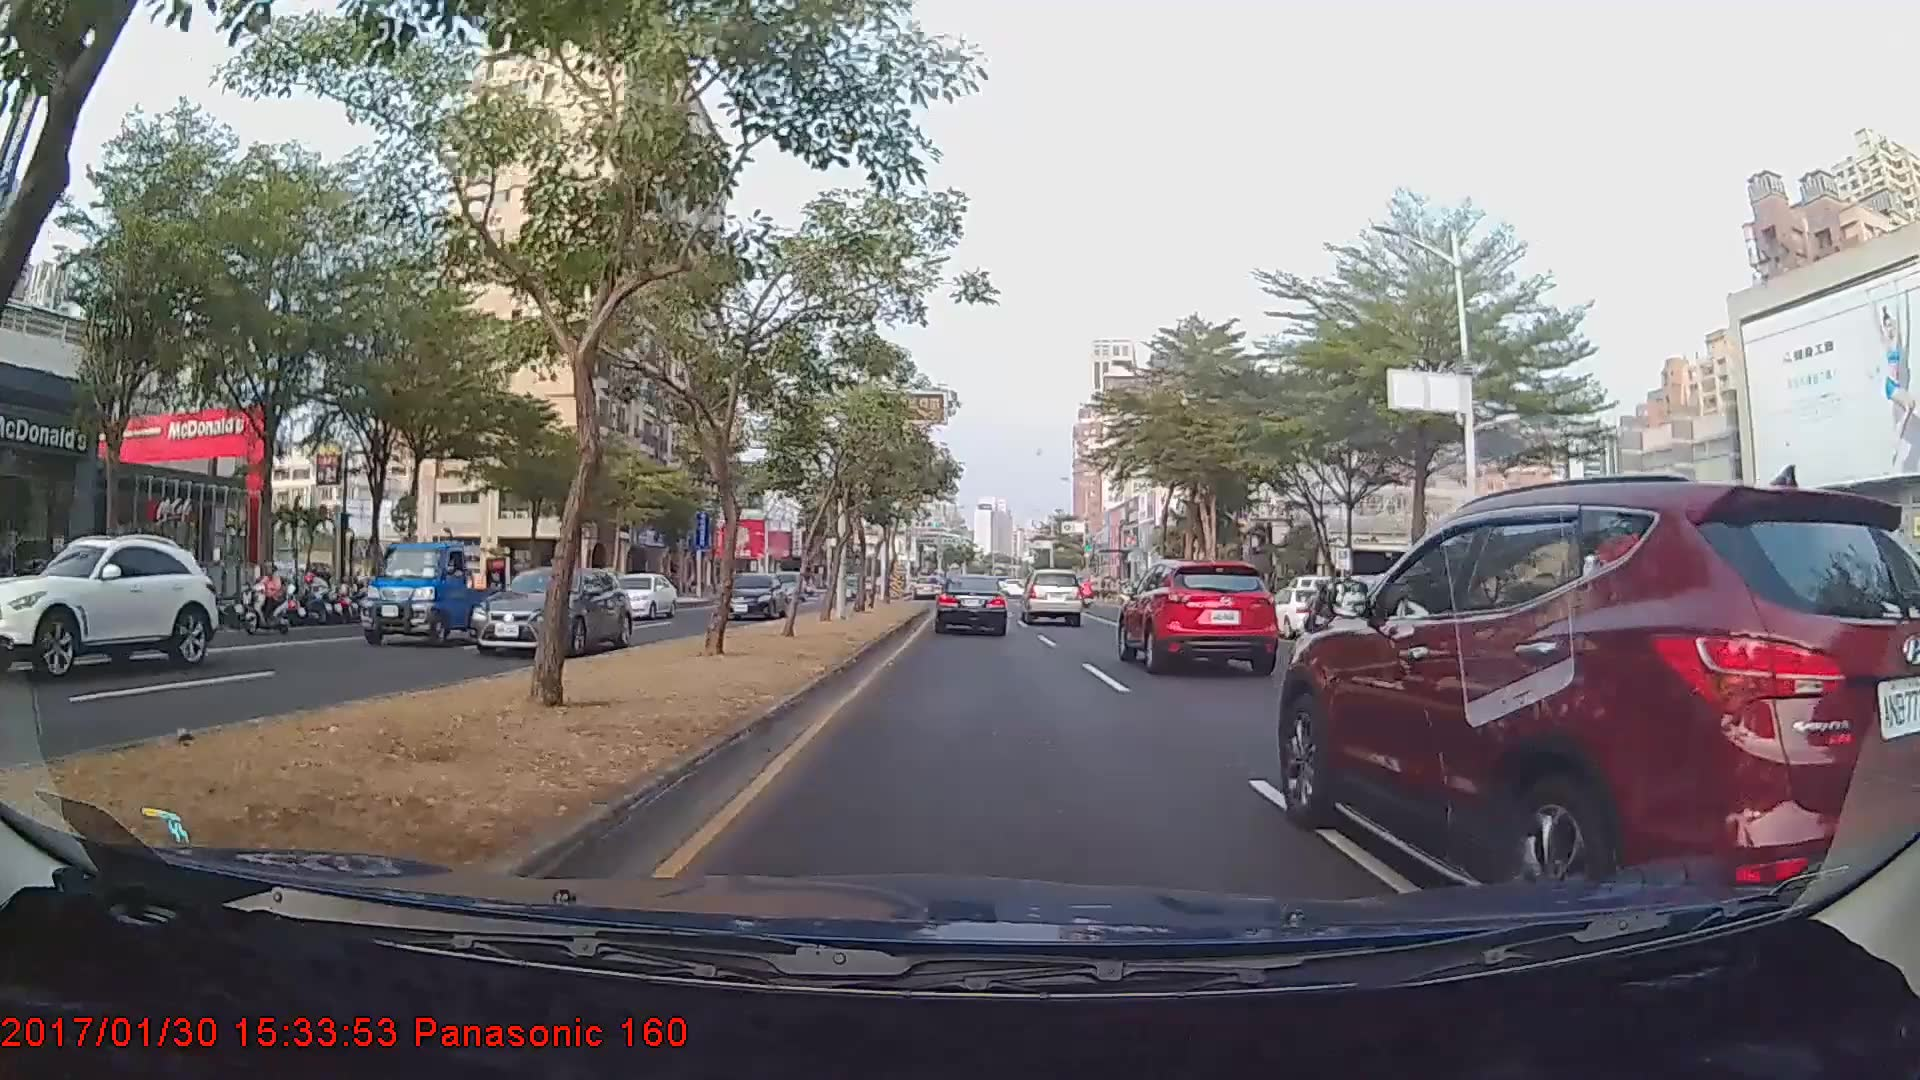rider: (241, 561, 301, 638)
vehicle: (1277, 477, 1917, 956), (0, 537, 221, 676), (1116, 561, 1278, 677), (353, 539, 523, 646), (462, 565, 627, 657), (1252, 584, 1345, 637), (934, 573, 1009, 637), (599, 572, 678, 620), (1021, 567, 1083, 625), (719, 572, 788, 623), (911, 574, 941, 600)
